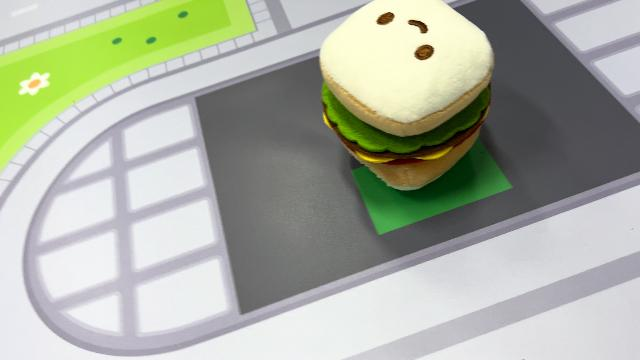sandwich: (316, 1, 497, 192)
